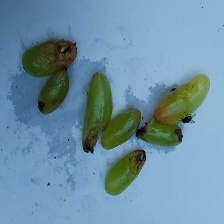grapes: (32, 0, 195, 195)
